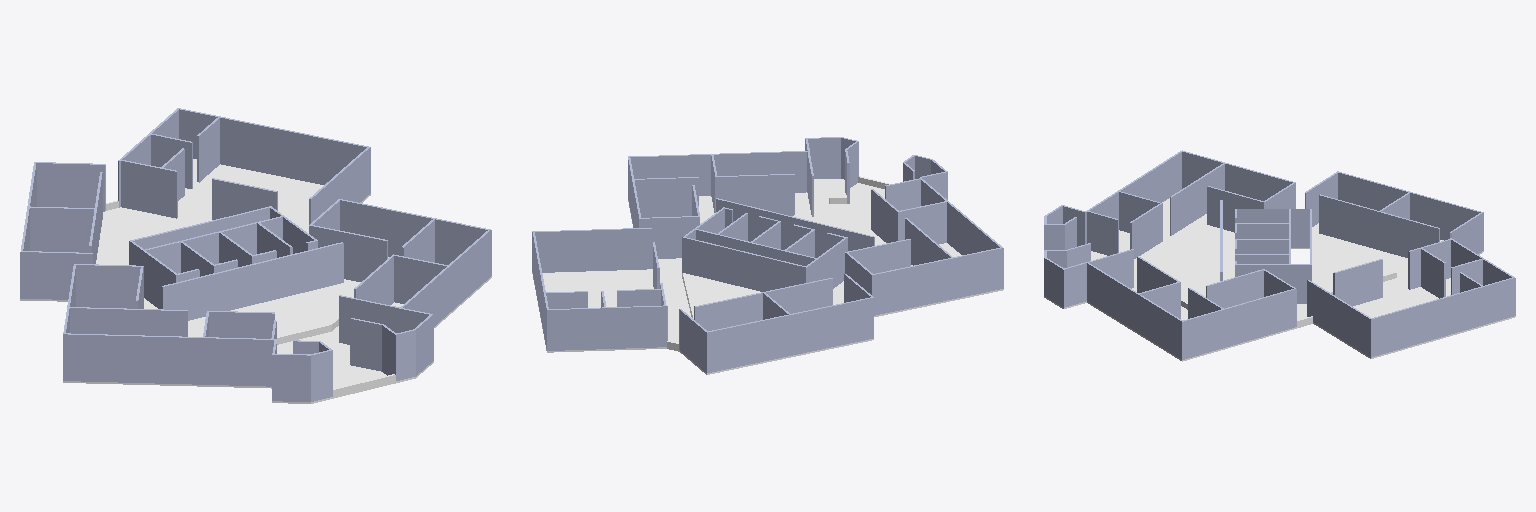
URDF robot description (Plano_completo):
<?xml version="1.0" encoding="utf-8"?>
<!-- This URDF was automatically created by SolidWorks to URDF Exporter! Originally created by [author] ([email redacted]) 
     Commit Version: 1.5.1-0-g916b5db  Build Version: 1.5.7152.31018
     For more information, please see http://wiki.ros.org/sw_urdf_exporter -->
<robot
  name="Plano_completo">
<gazebo reference="Paredes"> <material>Gazebo/Gold</material> </gazebo>
<gazebo reference="Plano"> <material>Gazebo/WoodFloor</material> </gazebo>
  <link
    name="Plano">
    <inertial>
      <origin
        xyz="-8.3771012885608 -17.8787342671875 0.154574729765122"
        rpy="0 0 0" />
      <mass
        value="105773.496434206" />
      <inertia
        ixx="4345973.25056542"
        ixy="-517592.207533352"
        ixz="3.53223562229851E-11"
        iyy="3034064.33966892"
        iyz="2.66785595039706E-10"
        izz="7377549.61887828" />
    </inertial>
    <visual>
      <origin
        xyz="0 0 0"
        rpy="0 0 0" />
      <geometry>
        <mesh
          filename="package://Plano_completo/meshes/Plano.STL" />
      </geometry>
      <material
        name="">
        <color
          rgba="1 1 1 1" />
      </material>
    </visual>
    <collision>
      <origin
        xyz="0 0 0"
        rpy="0 0 0" />
      <geometry>
        <mesh
          filename="package://Plano_completo/meshes/Plano.STL" />
      </geometry>
    </collision>
  </link>
  <link
    name="Paredes">
    <inertial>
      <origin
        xyz="-8.33486592764714 1.62 17.2787605001807"
        rpy="0 0 0" />
      <mass
        value="106998.234725186" />
      <inertia
        ixx="1884398.41780361"
        ixy="1.24386270804838E-10"
        ixz="-46224.2076186336"
        iyy="2975088.2144271"
        iyz="1.60611129058795E-10"
        izz="1251187.14871118" />
    </inertial>
    <visual>
      <origin
        xyz="0 0 0"
        rpy="0 0 0" />
      <geometry>
        <mesh
          filename="package://Plano_completo/meshes/Paredes.STL" />
      </geometry>
      <material
        name="">
        <color
          rgba="0.792156862745098 0.819607843137255 0.933333333333333 1" />
      </material>
    </visual>
    <collision>
      <origin
        xyz="0 0 0"
        rpy="0 0 0" />
      <geometry>
        <mesh
          filename="package://Plano_completo/meshes/Paredes.STL" />
      </geometry>
    </collision>
  </link>
  <joint
    name="paredes"
    type="fixed">
    <origin
      xyz="0 0 0"
      rpy="1.5707963267949 0 0" />
    <parent
      link="Plano" />
    <child
      link="Paredes" />
    <axis
      xyz="0 0 0" />
  </joint>
  <link
    name="Mural">
    <inertial>
      <origin
        xyz="-8.9133737468096 1.62 20.7325397890786"
        rpy="0 0 0" />
      <mass
        value="5471.98532264628" />
      <inertia
        ixx="4114.24896446467"
        ixy="-7.20014707628193E-13"
        ixz="8.82258437282567E-14"
        iyy="67436.431005008"
        iyz="-1.12502298066905E-14"
        izz="71530.1600245127" />
    </inertial>
    <visual>
      <origin
        xyz="0 0 0"
        rpy="0 0 0" />
      <geometry>
        <mesh
          filename="package://Plano_completo/meshes/Mural.STL" />
      </geometry>
      <material
        name="">
        <color
          rgba="0.792156862745098 0.819607843137255 0.933333333333333 1" />
      </material>
    </visual>
    <collision>
      <origin
        xyz="0 0 0"
        rpy="0 0 0" />
      <geometry>
        <mesh
          filename="package://Plano_completo/meshes/Mural.STL" />
      </geometry>
    </collision>
  </link>
  <joint
    name="mural"
    type="fixed">
    <origin
      xyz="0 0 0"
      rpy="1.5707963267949 0 0" />
    <parent
      link="Plano" />
    <child
      link="Mural" />
    <axis
      xyz="0 0 0" />
  </joint>
</robot>

--- Render facts (derived) ---
3 views of the same robot in one strip: view 1: azimuth 30°, elevation 25°; view 2: azimuth 150°, elevation 25°; view 3: azimuth 270°, elevation 25° (orthographic).
Model Plano_completo with 3 links and 2 joints (2 fixed), rooted at Plano, posed every joint at zero.
Links seen in each view (by area): view 1: Paredes, Plano, Mural; view 2: Paredes, Plano, Mural; view 3: Paredes, Plano.
Link boxes in pixels (<box>): Paredes: <box>20,108,491,401</box>; Plano: <box>20,159,491,403</box>; Mural: <box>162,242,343,320</box>; Paredes: <box>532,137,1003,372</box>; Plano: <box>532,176,1003,374</box>; Mural: <box>716,198,874,257</box>; Paredes: <box>1044,150,1515,359</box>; Plano: <box>1044,198,1515,361</box>.
Bounding box of the posed robot: 28.85 × 33.46 × 3.12 m (x, y, z).
3 mesh visuals loaded from 3 distinct referenced files (3 binary STL).